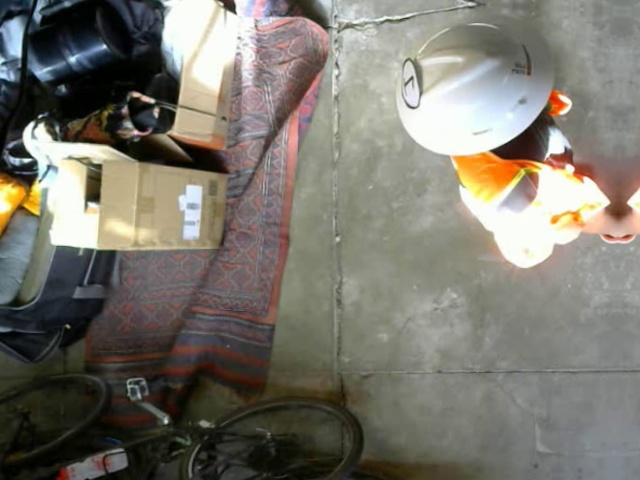one: (399, 59, 420, 107)
